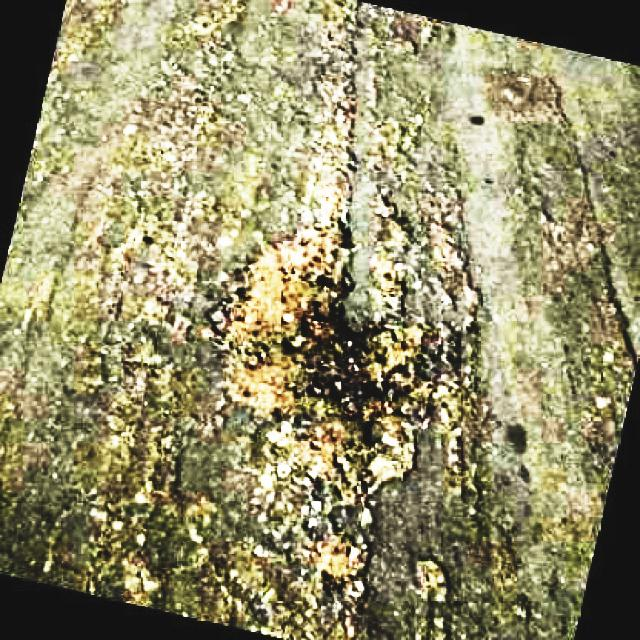pothole: (223, 212, 455, 490)
